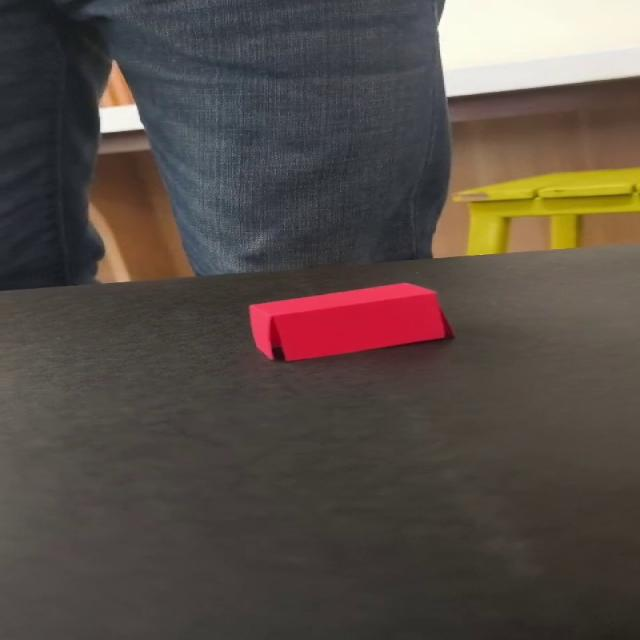red block: (247, 281, 453, 362)
